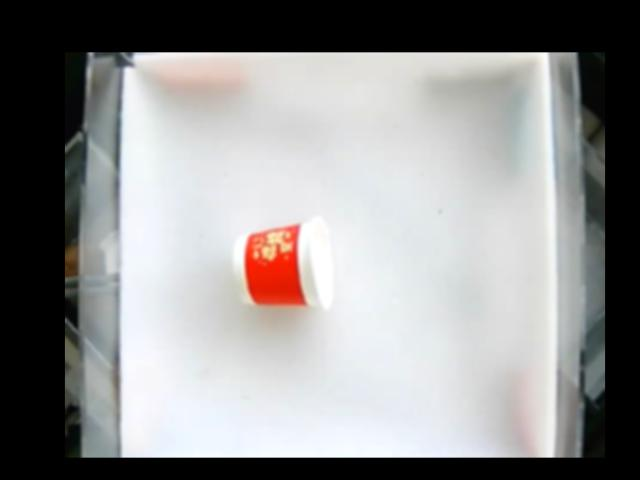Cup: (232, 217, 335, 313)
